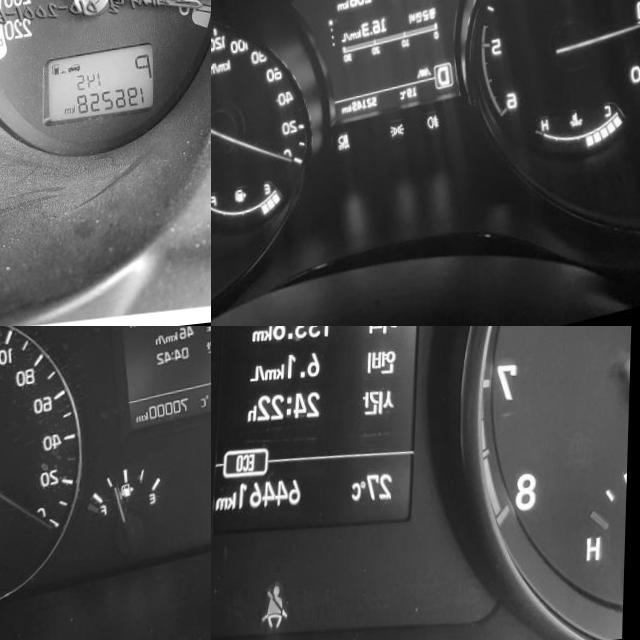FrontFogLight: (429, 120, 443, 139)
SideLamp: (392, 128, 408, 146)
